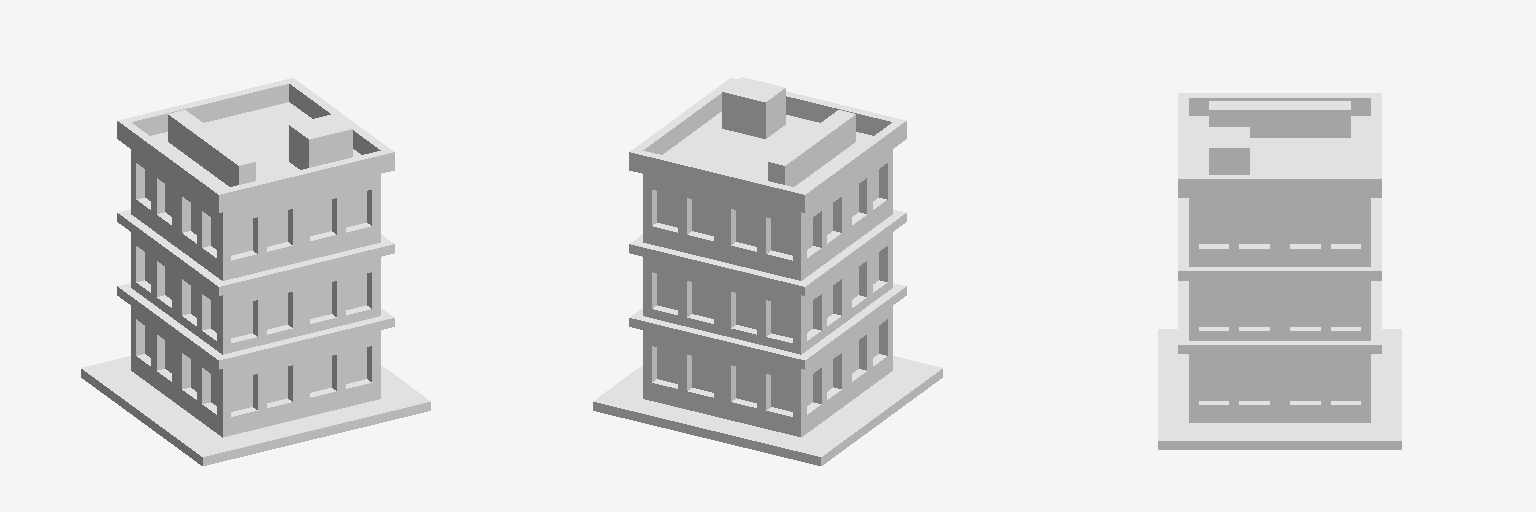
File: building1_color.obj
The picture shows the model from 3 angles: view 1: azimuth 30°, elevation 25°; view 2: azimuth 150°, elevation 25°; view 3: azimuth 270°, elevation 25°; orthographic projection.
Visible parts, largest first — view 1: building1_color; view 2: building1_color; view 3: building1_color.
Part boxes in pixels (x1,y1,x2,y2): building1_color: (81,78,430,465); building1_color: (593,77,942,465); building1_color: (1158,93,1401,449).
Bounding box in the file's own units: 26 × 30 × 24.